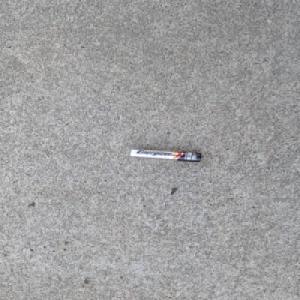Battery: (127, 148, 203, 164)
